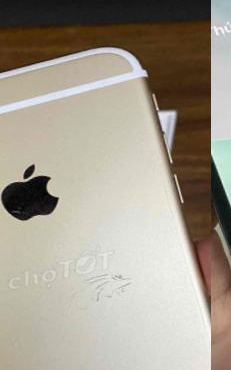scratch: (32, 241, 175, 340)
